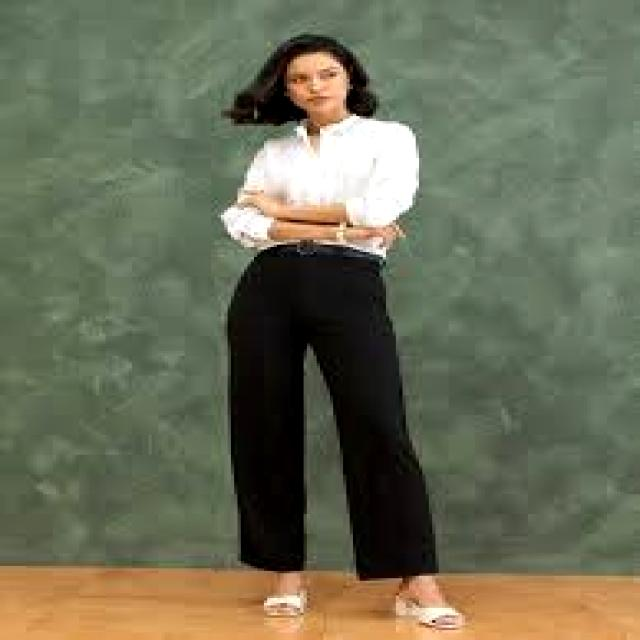lower-wear: (228, 243, 438, 580)
top-wear: (238, 114, 418, 227)
